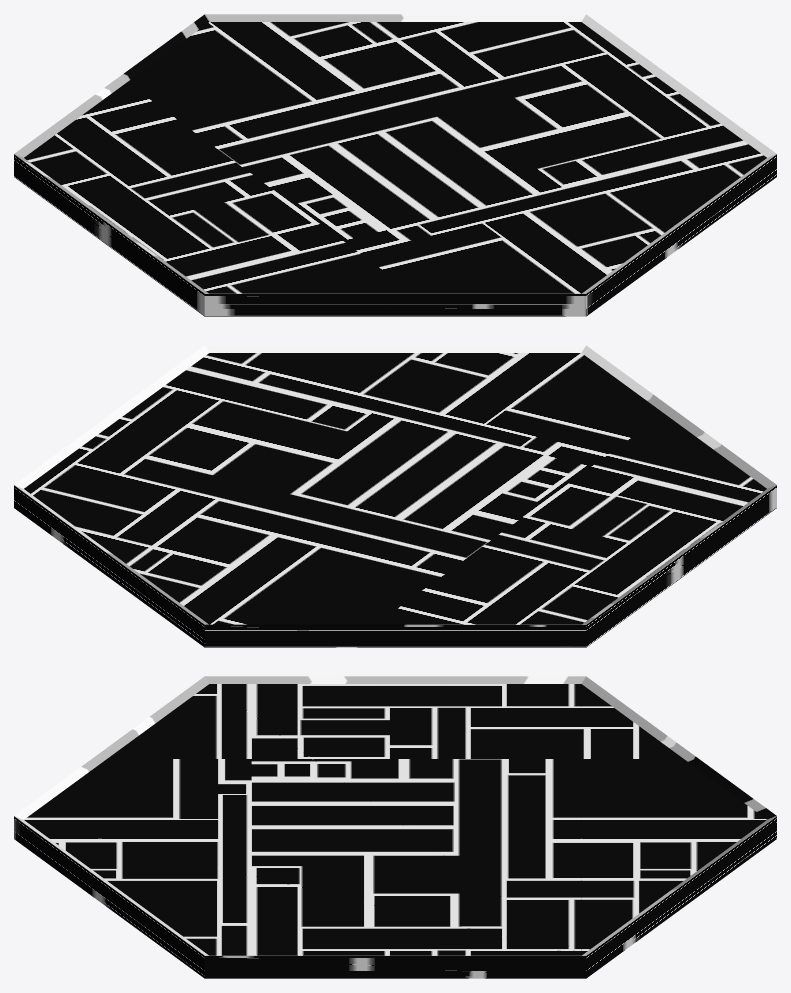
File: baseFloorHexagon.fbx
3 renders of one model, top to bottom at view 1: azimuth 30°, elevation 25°; view 2: azimuth 150°, elevation 25°; view 3: azimuth 270°, elevation 25°, orthographic.
Parts seen in each view (by area): view 1: Cylinder; view 2: Cylinder; view 3: Cylinder.
Part boxes in pixels (x1,y1,x2,y2): Cylinder: (14, 14, 776, 316); Cylinder: (14, 345, 776, 647); Cylinder: (14, 676, 776, 978).
Bounding box in the file's own units: 5178 × 200 × 5979.
1 material, 1 textured.
